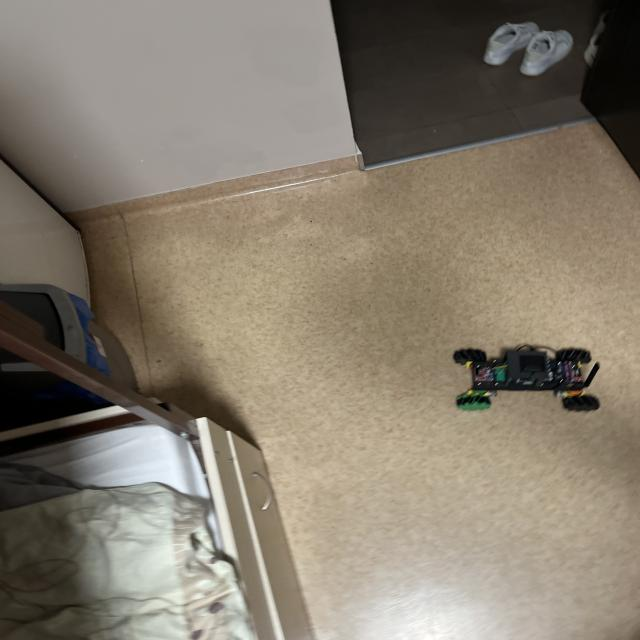robot: (453, 345, 599, 411)
